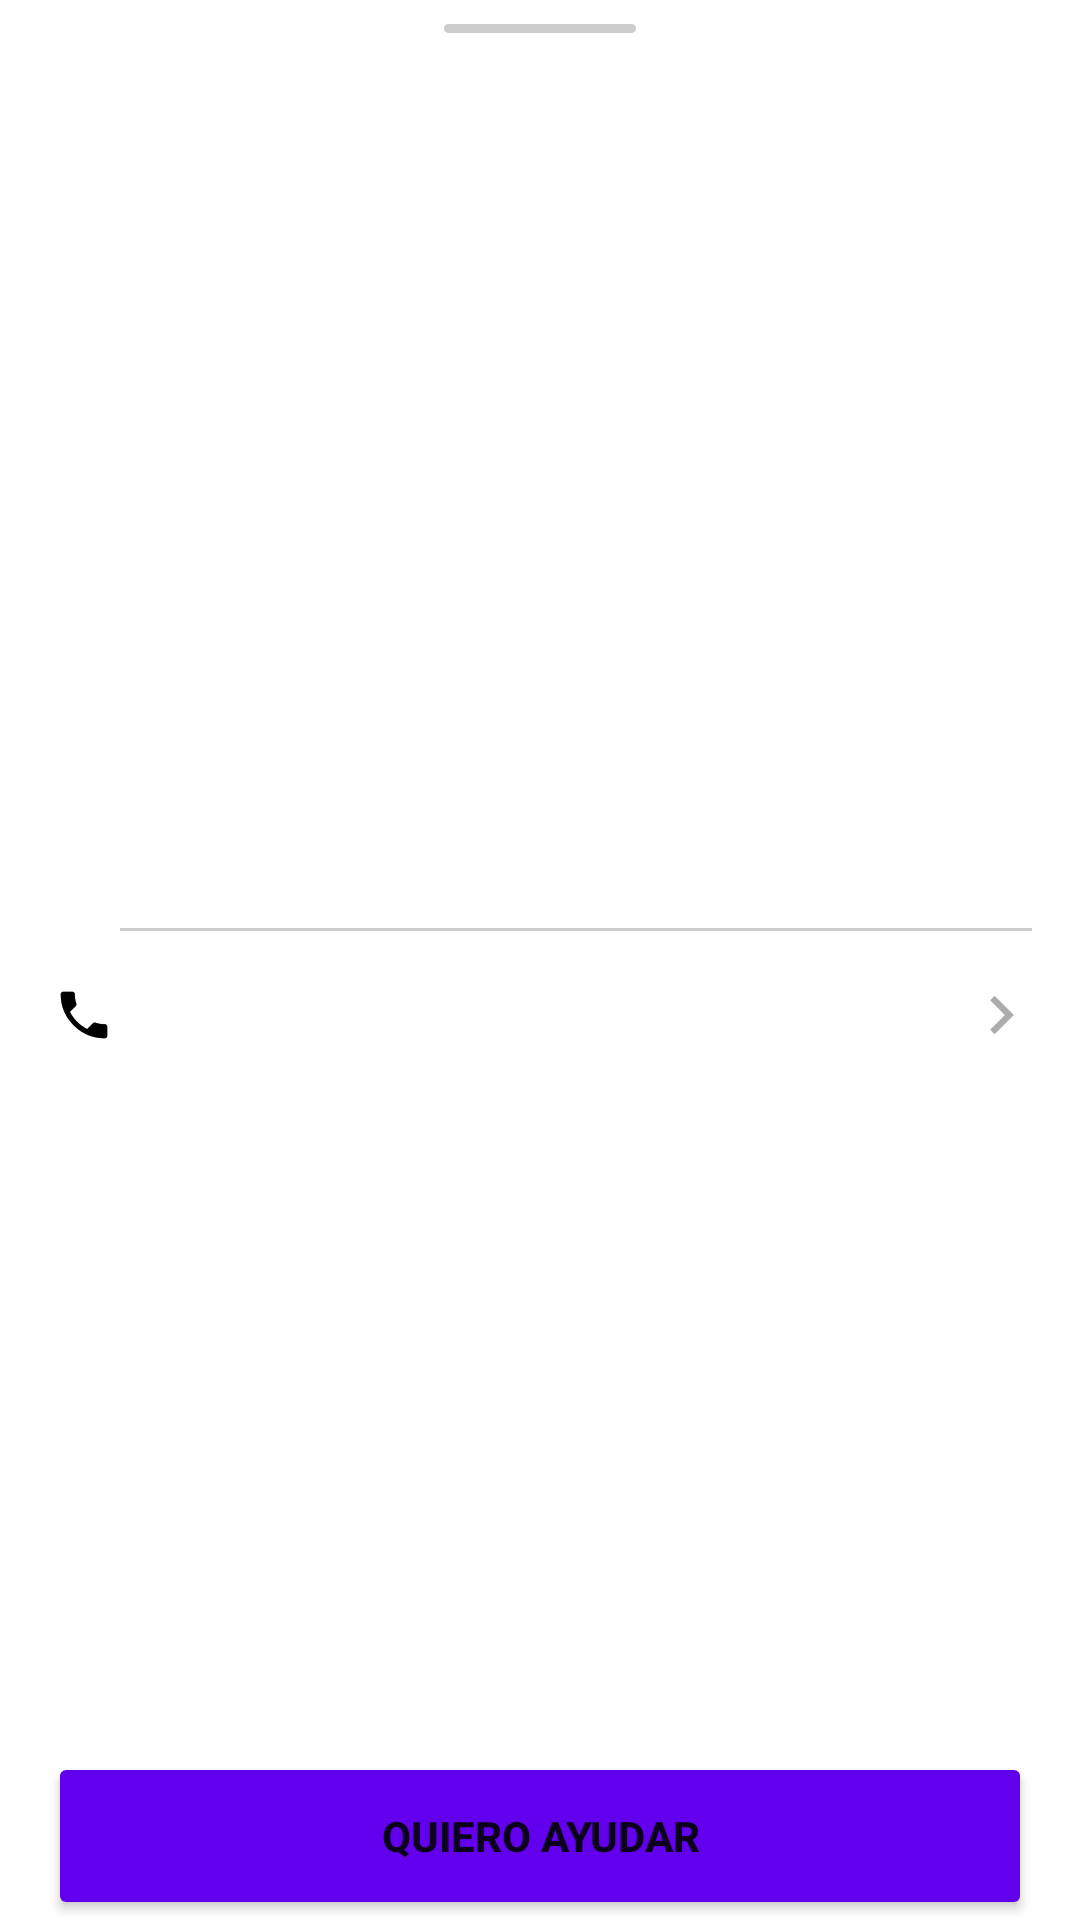

Icons on this 1080px x 1920px Android screen, each with the point to tap as (x=x, y=y):
arrow right: (x=1002, y=1015)
phone: (x=84, y=1015)
